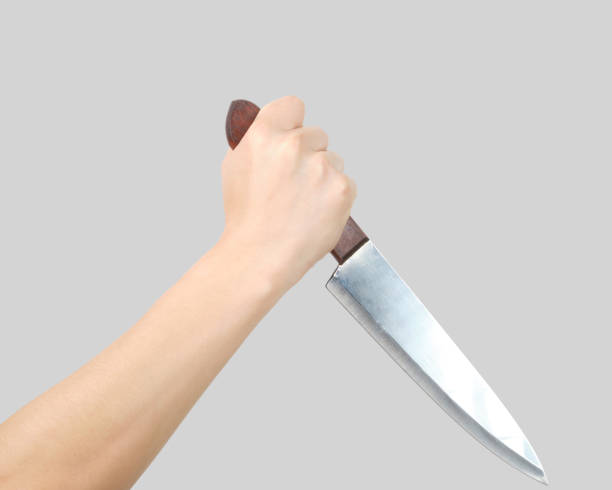knife: (223, 100, 551, 485)
